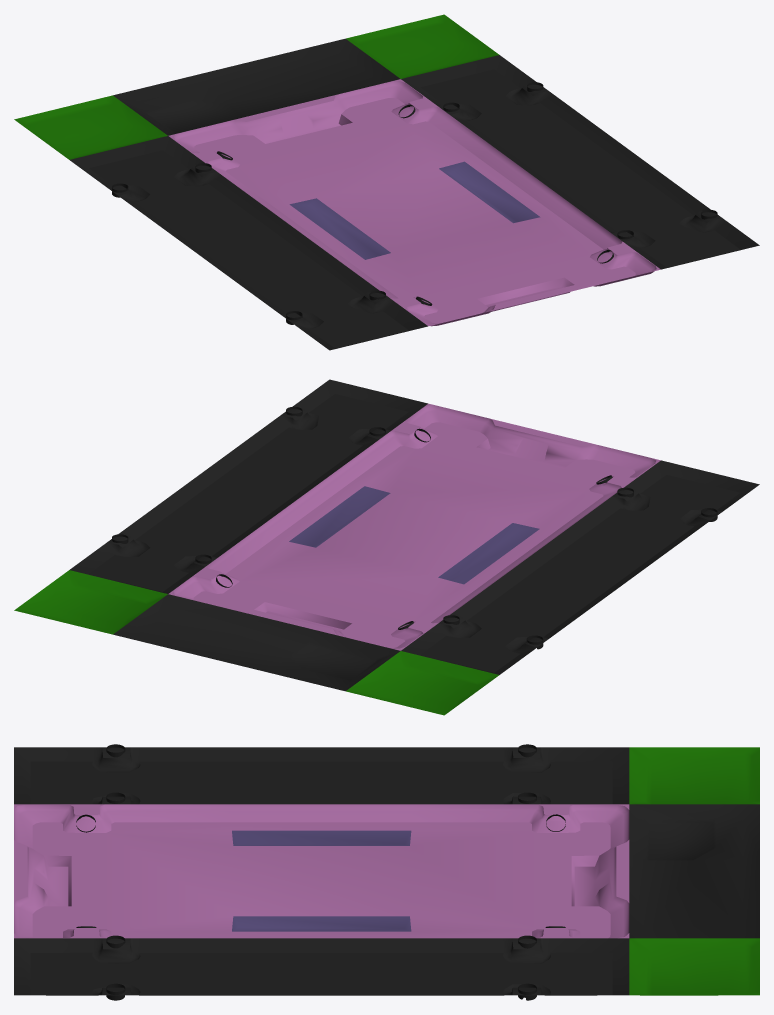
File: Building_B_Staircase_B_Ceiling_A.fbx
3 views of the same model, one above another, from view 1: azimuth 30°, elevation 25°; view 2: azimuth 150°, elevation 25°; view 3: azimuth 270°, elevation 25° (orthographic). The views are drawn at different scales.
Visible parts, largest first — view 1: Geom_Building_B_Staircase_B_Ceiling_A_LOD00; view 2: Geom_Building_B_Staircase_B_Ceiling_A_LOD00; view 3: Geom_Building_B_Staircase_B_Ceiling_A_LOD00.
Part boxes in pixels (x1=…): Geom_Building_B_Staircase_B_Ceiling_A_LOD00: x1=14, y1=14, x2=759, y2=350; Geom_Building_B_Staircase_B_Ceiling_A_LOD00: x1=14, y1=379, x2=759, y2=715; Geom_Building_B_Staircase_B_Ceiling_A_LOD00: x1=14, y1=744, x2=759, y2=1000.
Size of what is drawn, in the model's own units: 740 by 29.09 by 940.
